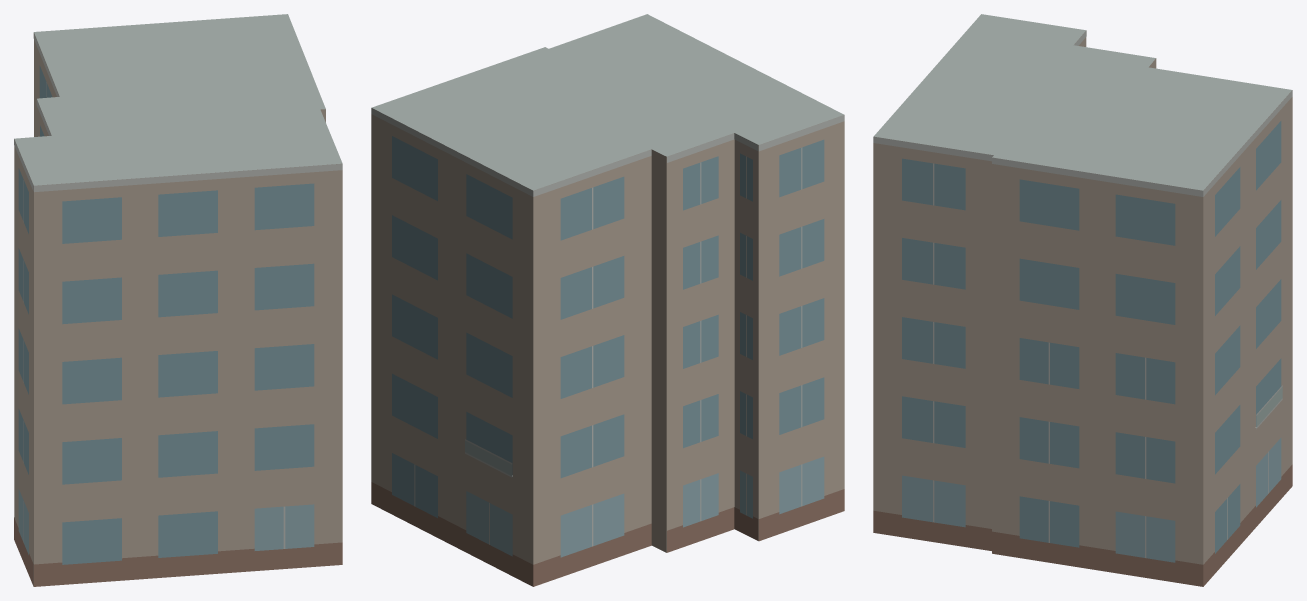
The model's file is survey-upis-32948723.glb.
3 views of the same model, side by side, from view 1: azimuth 30°, elevation 25°; view 2: azimuth 150°, elevation 25°; view 3: azimuth 270°, elevation 25° (orthographic).
Parts seen in each view (by area): view 1: survey-upis-32948723.tmp; view 2: survey-upis-32948723.tmp; view 3: survey-upis-32948723.tmp.
Boxes of the visible parts, bbox=[...] form: survey-upis-32948723.tmp: bbox=[14, 14, 342, 586]; survey-upis-32948723.tmp: bbox=[371, 14, 844, 586]; survey-upis-32948723.tmp: bbox=[873, 14, 1292, 586].
Bounding box in the file's own units: 14.45 × 15.1 × 14.49.
